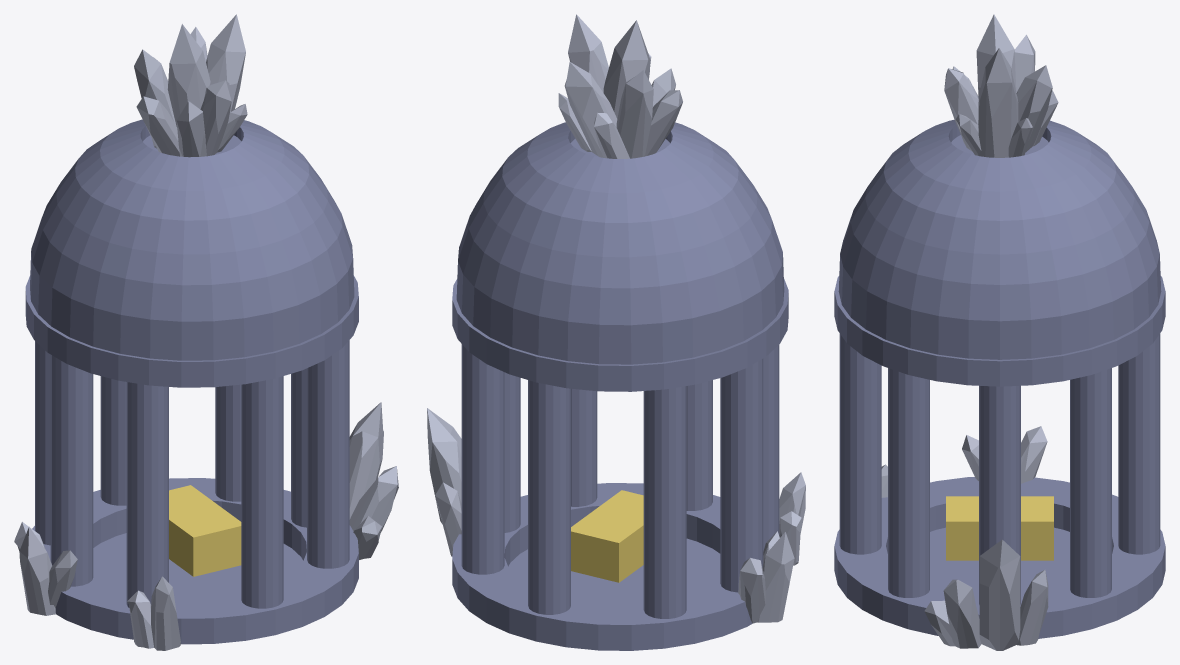
Rendered from dreamer_goldmine.fbx.
3 views of the same model, side by side, from view 1: azimuth 30°, elevation 25°; view 2: azimuth 150°, elevation 25°; view 3: azimuth 270°, elevation 25° (orthographic).
Visible parts, largest first — view 1: goldmine3; view 2: goldmine3; view 3: goldmine3.
Boxes of the visible parts, x1,y1,x2,y2 form: goldmine3: [14, 14, 398, 650]; goldmine3: [427, 14, 805, 650]; goldmine3: [834, 14, 1165, 650].
Size of the model in its own units: 426 by 630 by 343.
